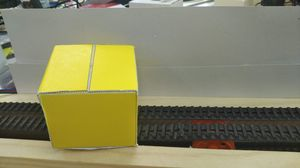box4: (36, 42, 141, 151)
